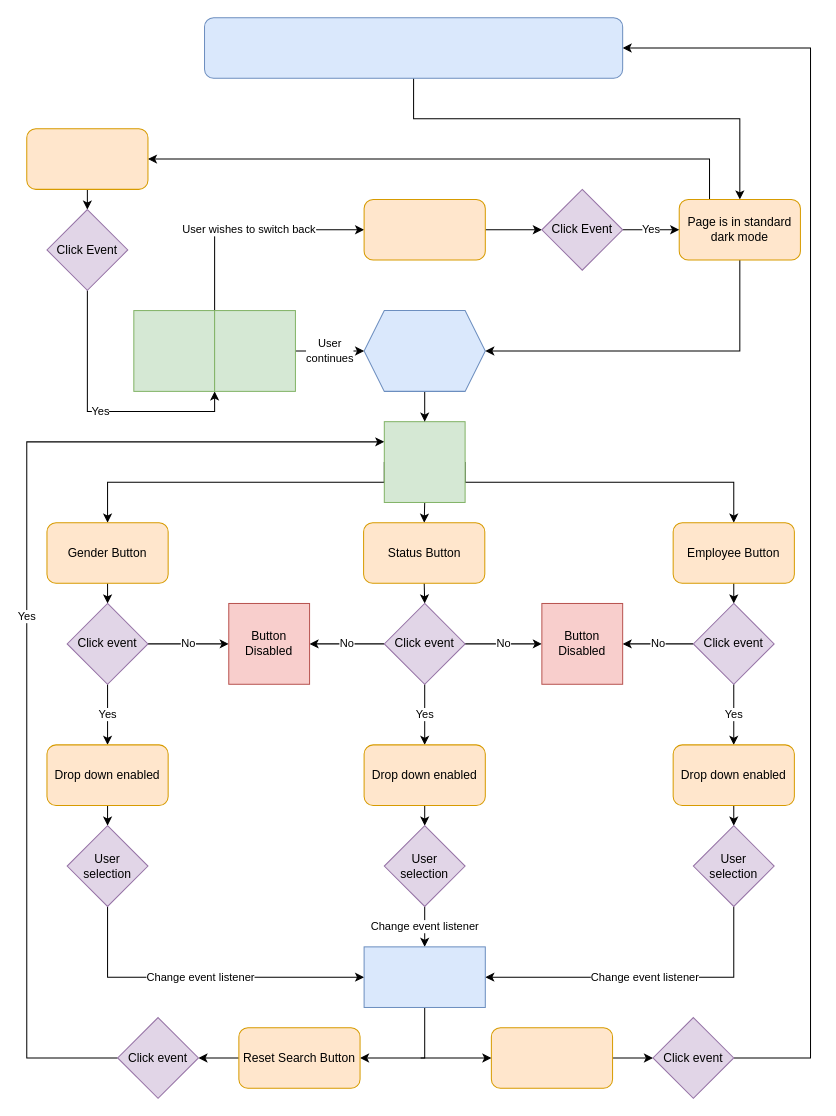
Image size: 836x1116. Some labels were removed from this diagram. The centre of each missing label's shape, as x and y in pixels:
All buttons enabled: the point at 424,461
Button changes: the point at 254,350
Dark Mode Button: the point at 424,229
Data extracted from API: the point at 424,350
Displays Results: the point at 424,976
Light Mode Button: the point at 87,158
Page loads: the point at 413,47
Refresh Page Button: the point at 551,1057
White background: the point at 174,350
